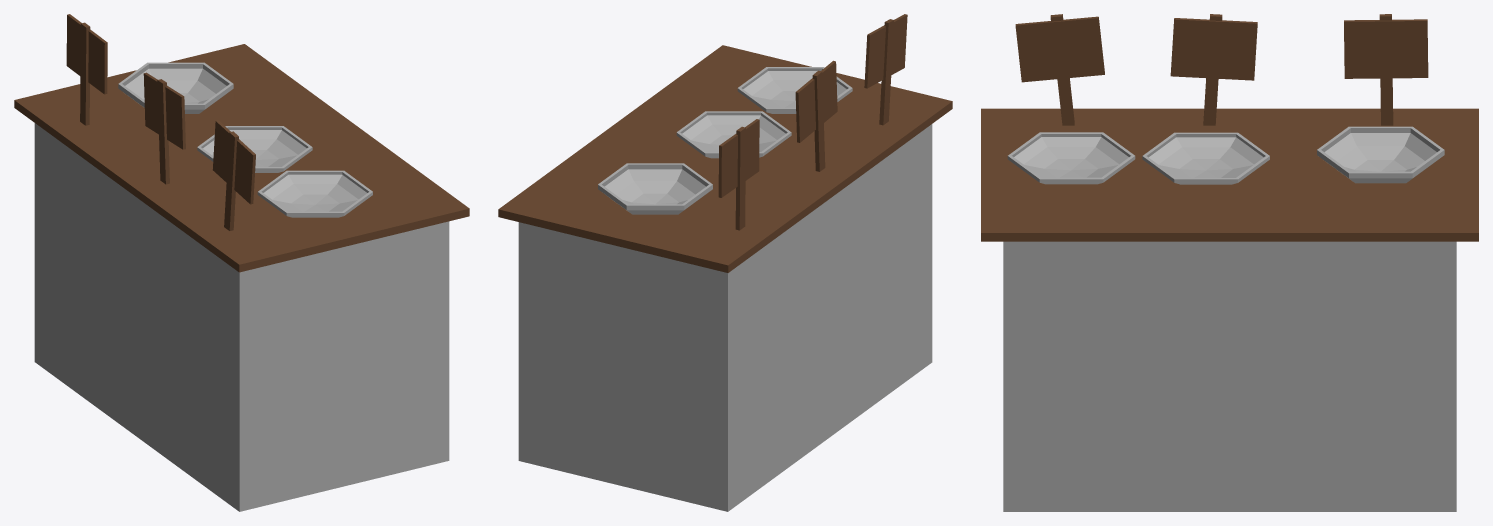
The model's file is MixingStation.fbx.
3 views of the same model, side by side, from view 1: azimuth 30°, elevation 25°; view 2: azimuth 150°, elevation 25°; view 3: azimuth 270°, elevation 25° (orthographic). The views are drawn at different scales.
Parts seen in each view (by area): view 1: Base, Bowls, Signs; view 2: Base, Bowls, Signs; view 3: Base, Signs, Bowls.
Part boxes in pixels (box(x1,y1,x2,y2)): Base: box(14, 44, 469, 511); Bowls: box(118, 62, 372, 217); Signs: box(66, 14, 255, 230); Base: box(498, 45, 952, 511); Bowls: box(598, 67, 852, 214); Signs: box(718, 14, 907, 230); Base: box(981, 108, 1478, 511); Signs: box(1015, 14, 1428, 125); Bowls: box(1007, 126, 1444, 184).
Size of the model in its own units: 130 by 192 by 220.
